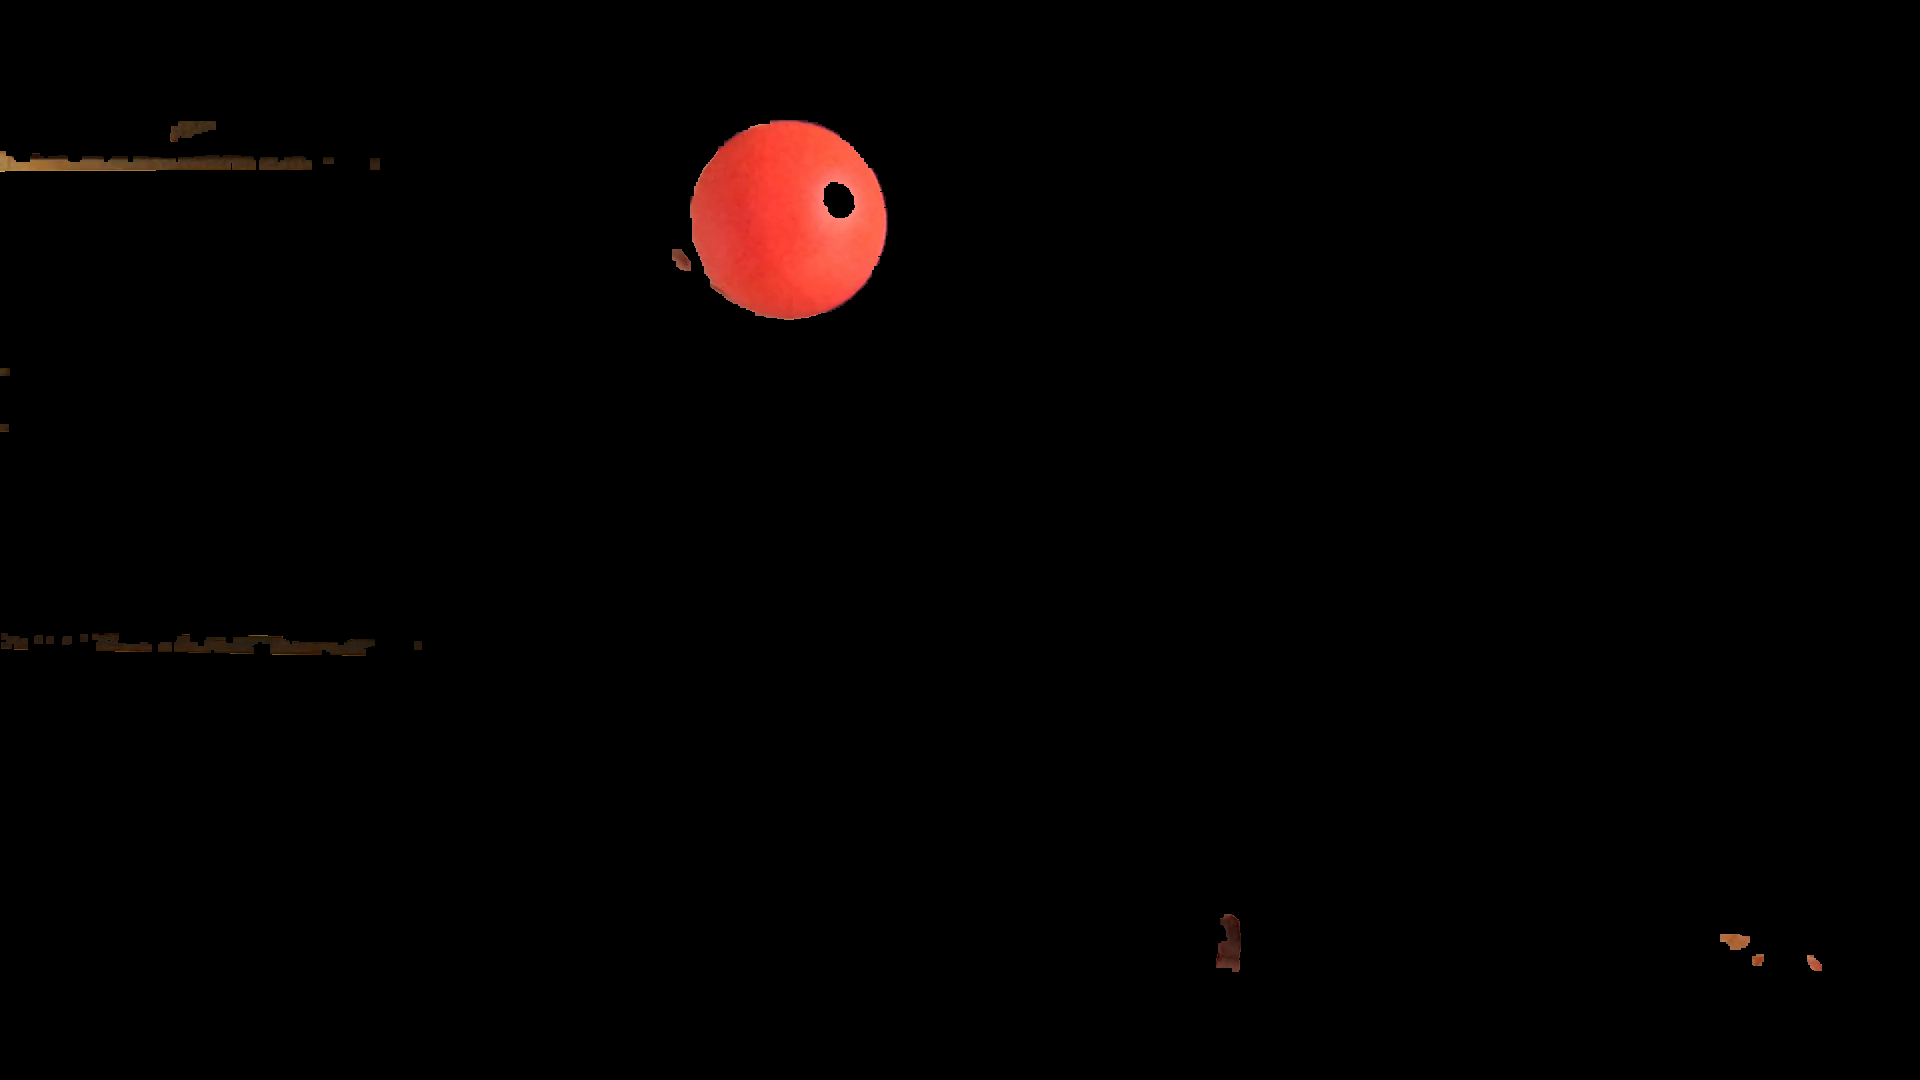Ball: (692, 117, 889, 319)
